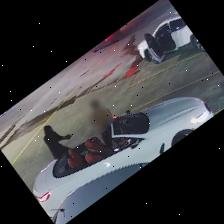person: (89, 99, 114, 146), (44, 125, 71, 159)
